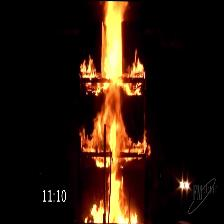fire: (77, 1, 149, 203), (81, 0, 144, 104)
